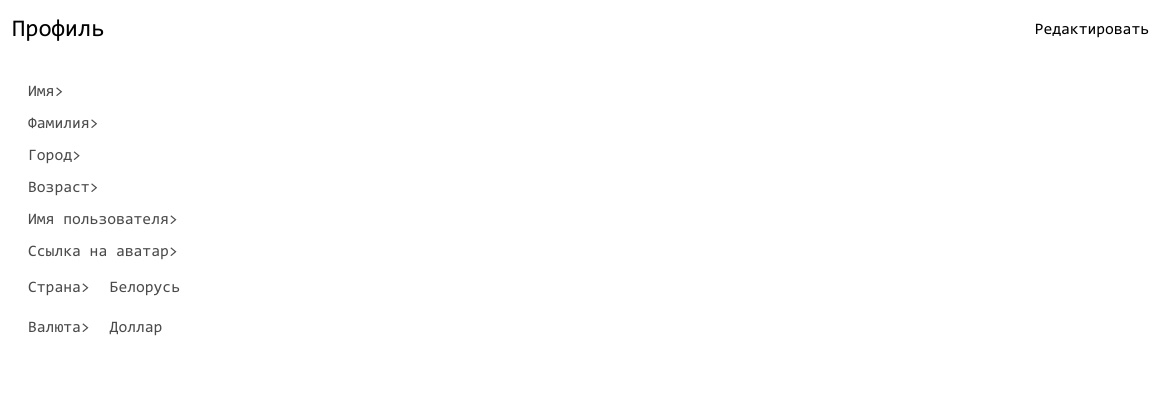
Scenario: features/EditableProfileCard › Save with error
Click the button with test id "EditableProfileCardHeader.EditButton": (1092, 30) [1020,12,1164,48]
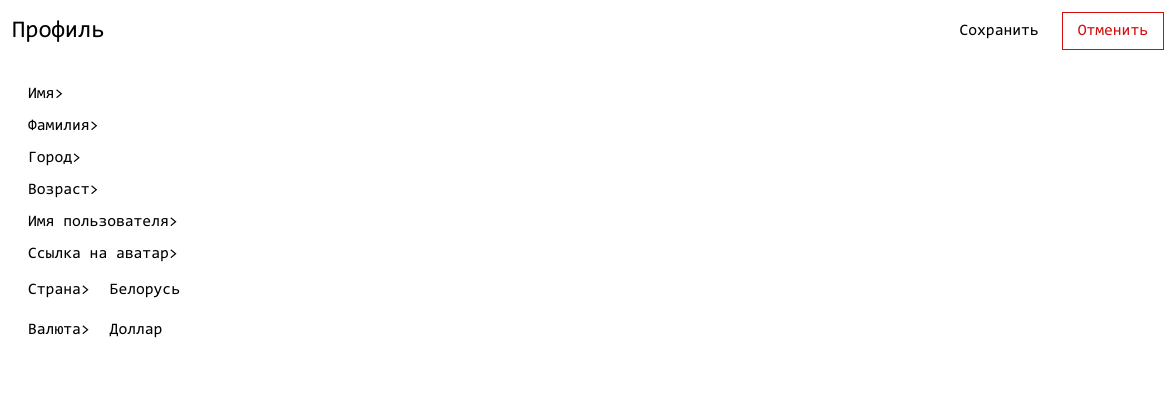
Click the button with test id "EditableProfileCardHeader.SaveButton": (999, 31) [944,13,1054,49]
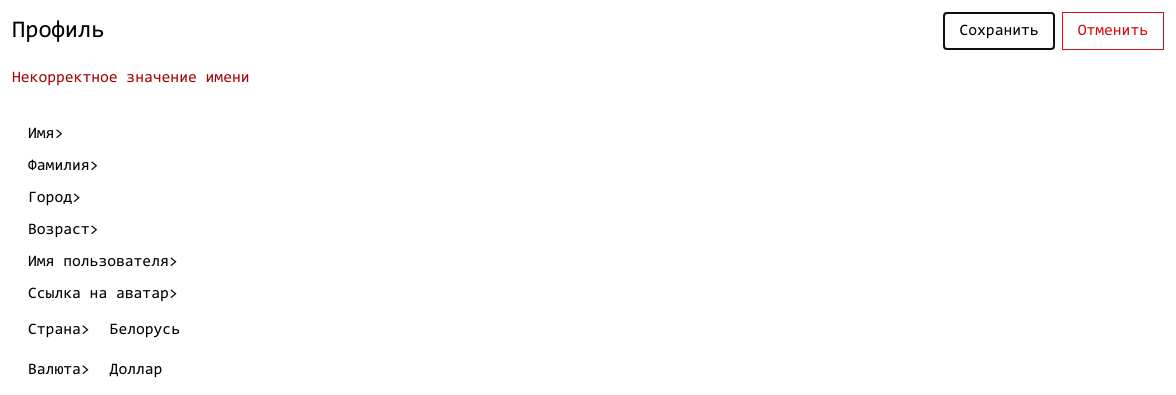
Result: the text "Некорректное значение имени" is shown at [12,66,250,90]
